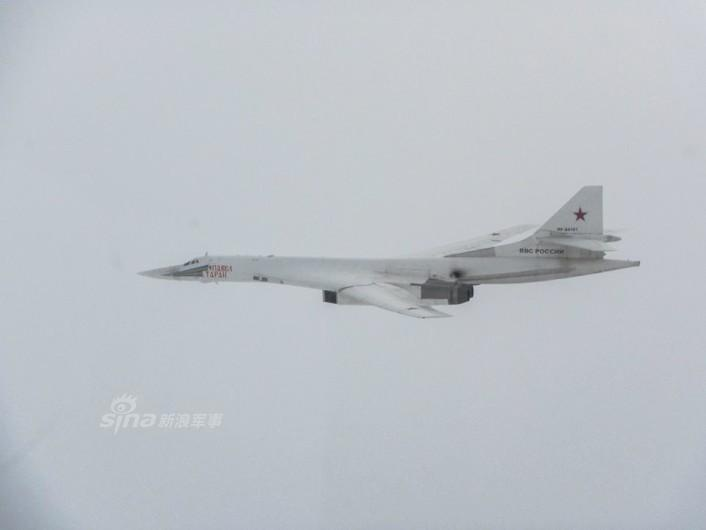airplane: (130, 182, 646, 323)
